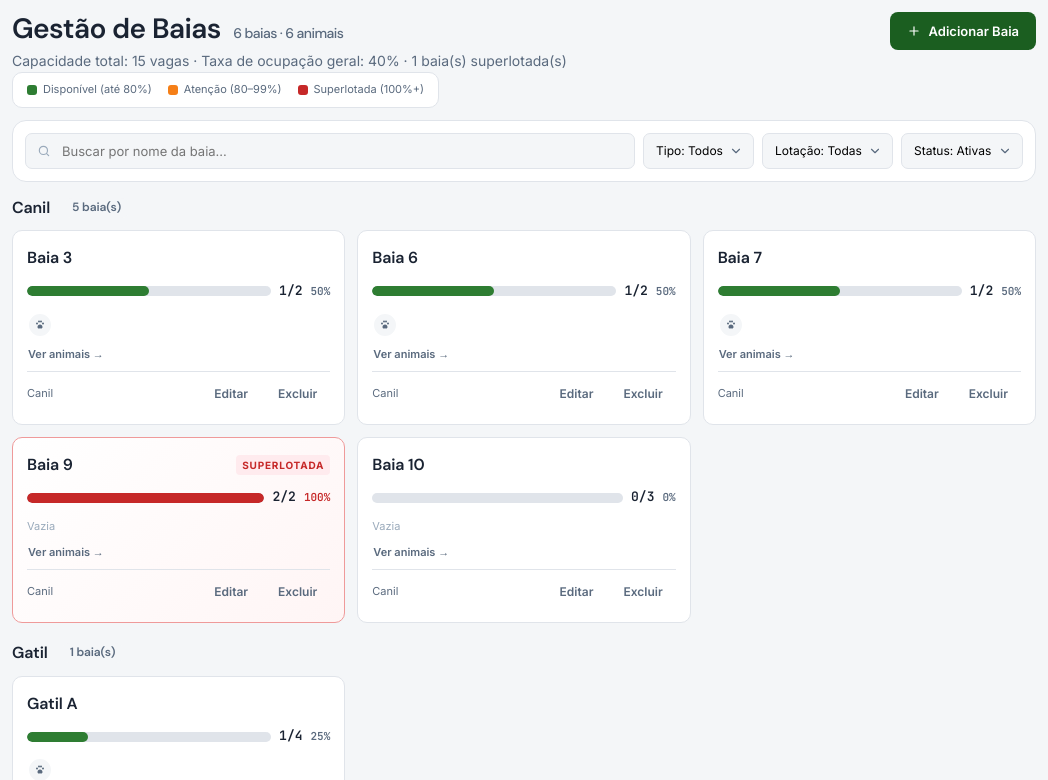
it: GestaoBaias › filtra por tipo
Expected: the text "Baia 3" is shown, x1=27 y1=245 x2=72 y2=271
Select "Gatil" in the dropdown named "filtrar por tipo" at (698, 151), box x1=643 y1=133 x2=754 y2=169
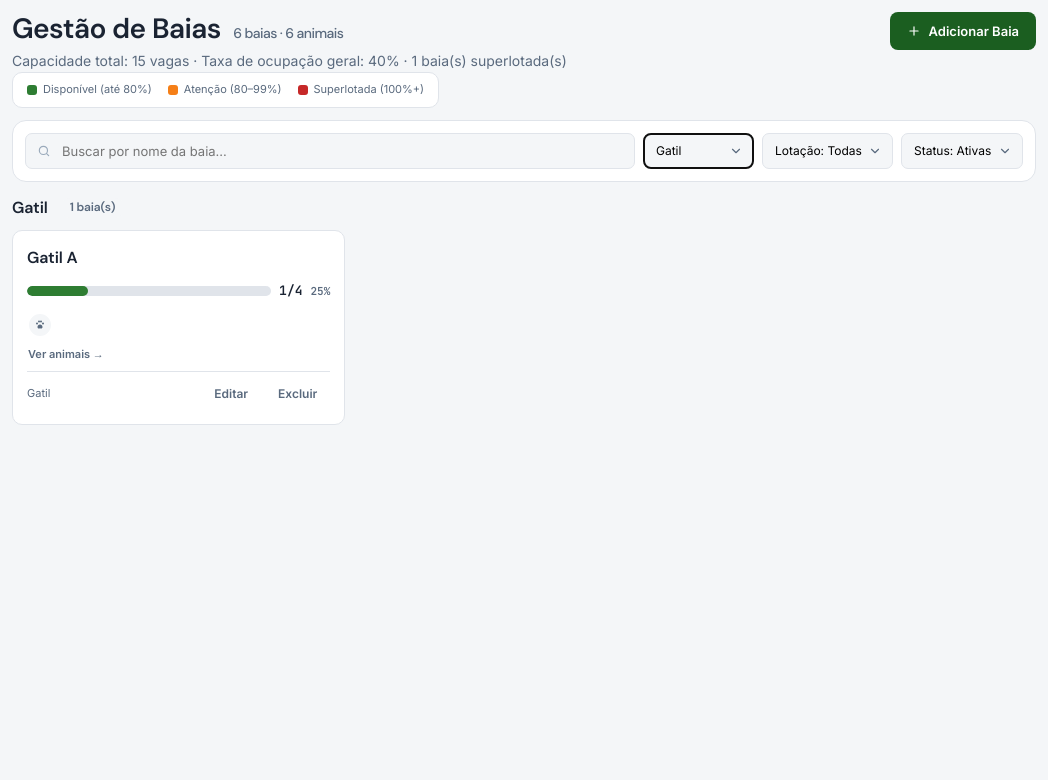
Expected: the text "Gatil A" is shown, x1=27 y1=245 x2=77 y2=271
Expected: the text "Baia 3" is gone
